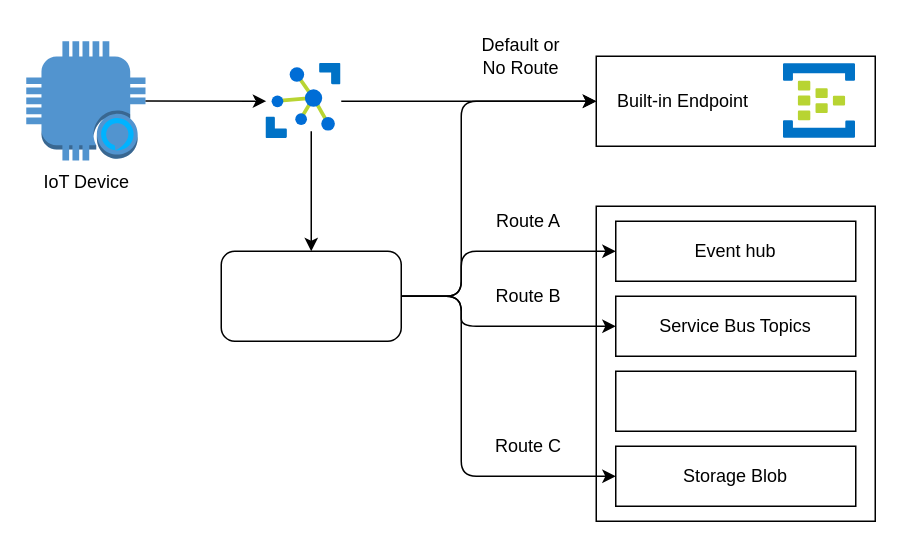
The diagram is 902 pixels wide and 548 high, and some of its shapes have lost their labels. Each missing label, with the centre of its shape:
"IoT Hub" belongs at [303,100].
"Message Routing" belongs at [310,295].
"Service Bus Queues" belongs at [735,400].
